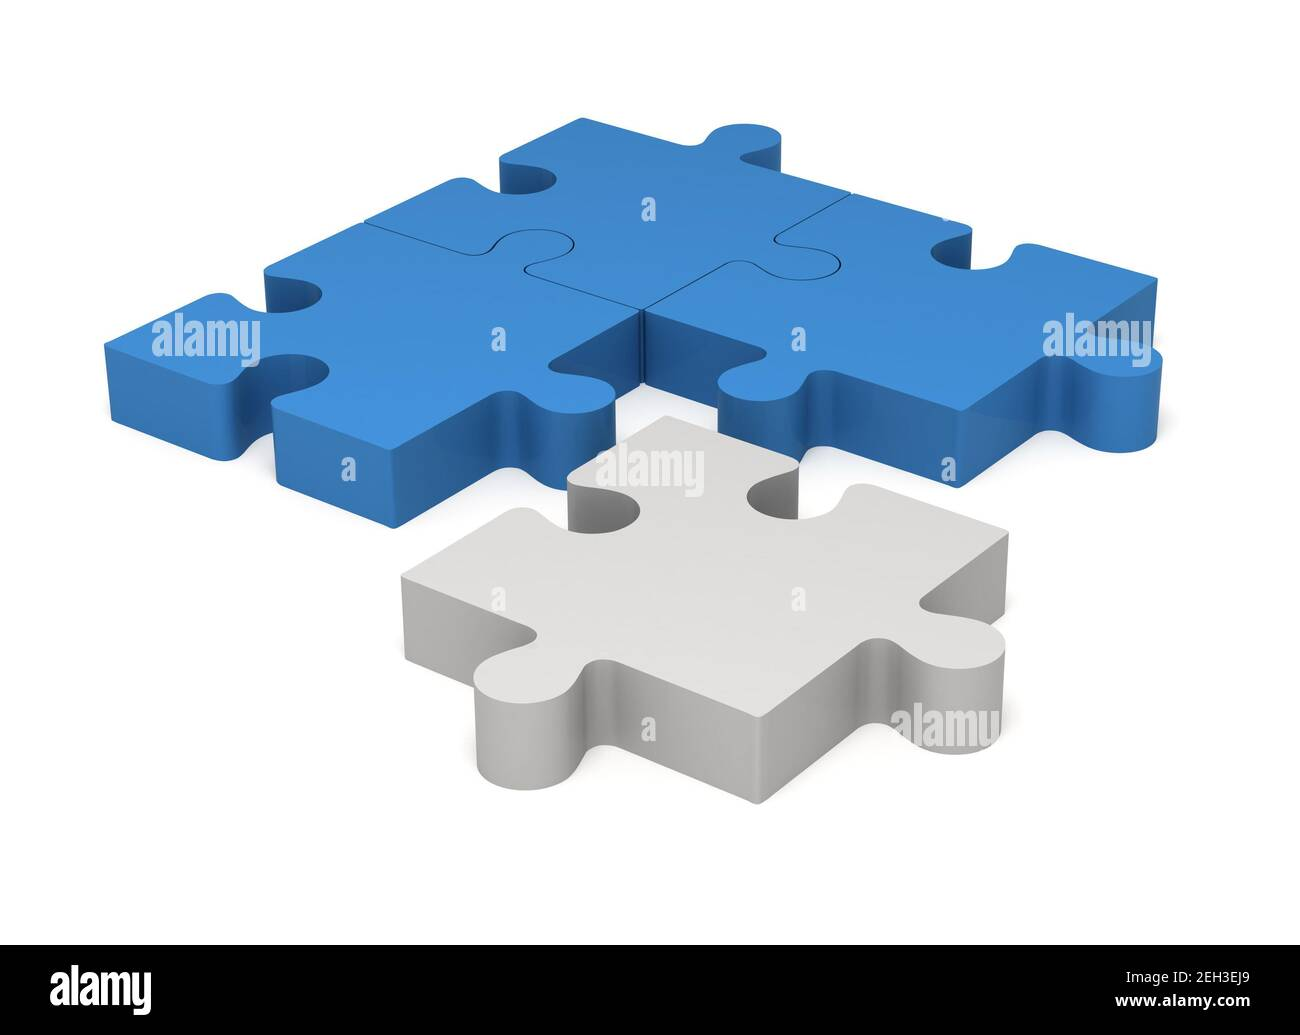puzzle piece: (370, 402, 1044, 814)
